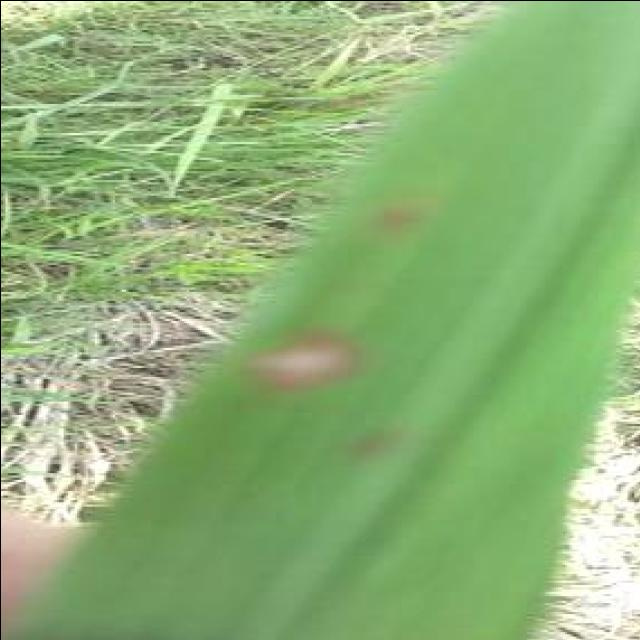Leaf_Blast: (222, 320, 382, 430)
